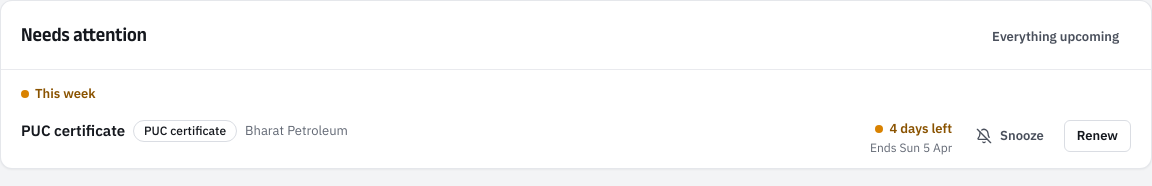
Test: AttentionQueue › keeps the row disabled after a snooze succeeds and announces it
Click the button with aria-label "Snooze PUC certificate": [1010, 136] box [964,120,1056,152]
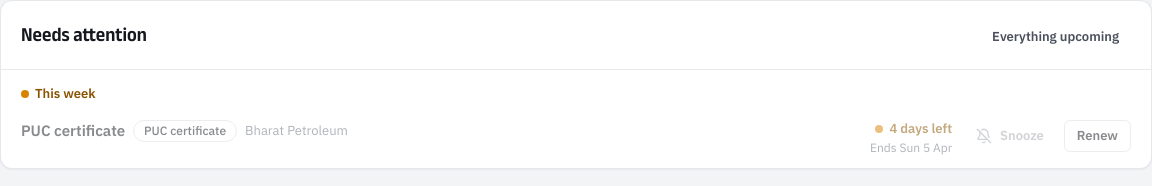
Now the button with aria-label "Snooze PUC certificate" is disabled, box [964,120,1056,152]
